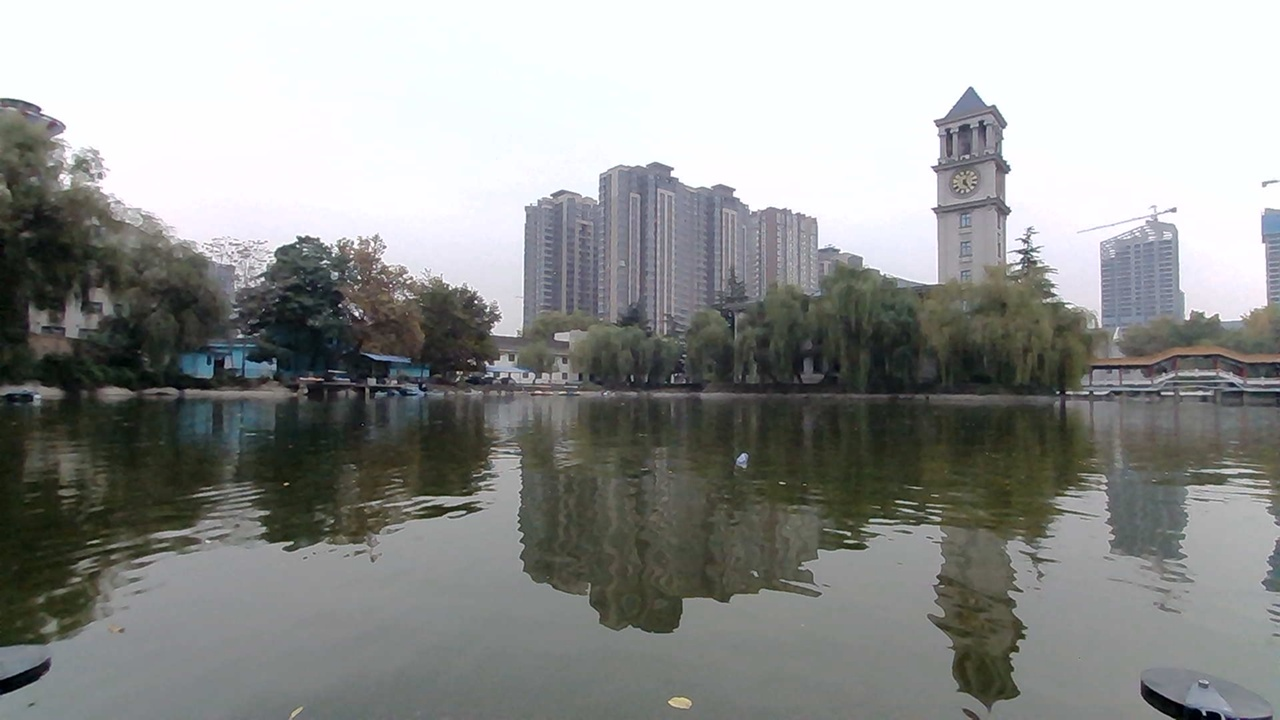bottle: (720, 442, 769, 474)
